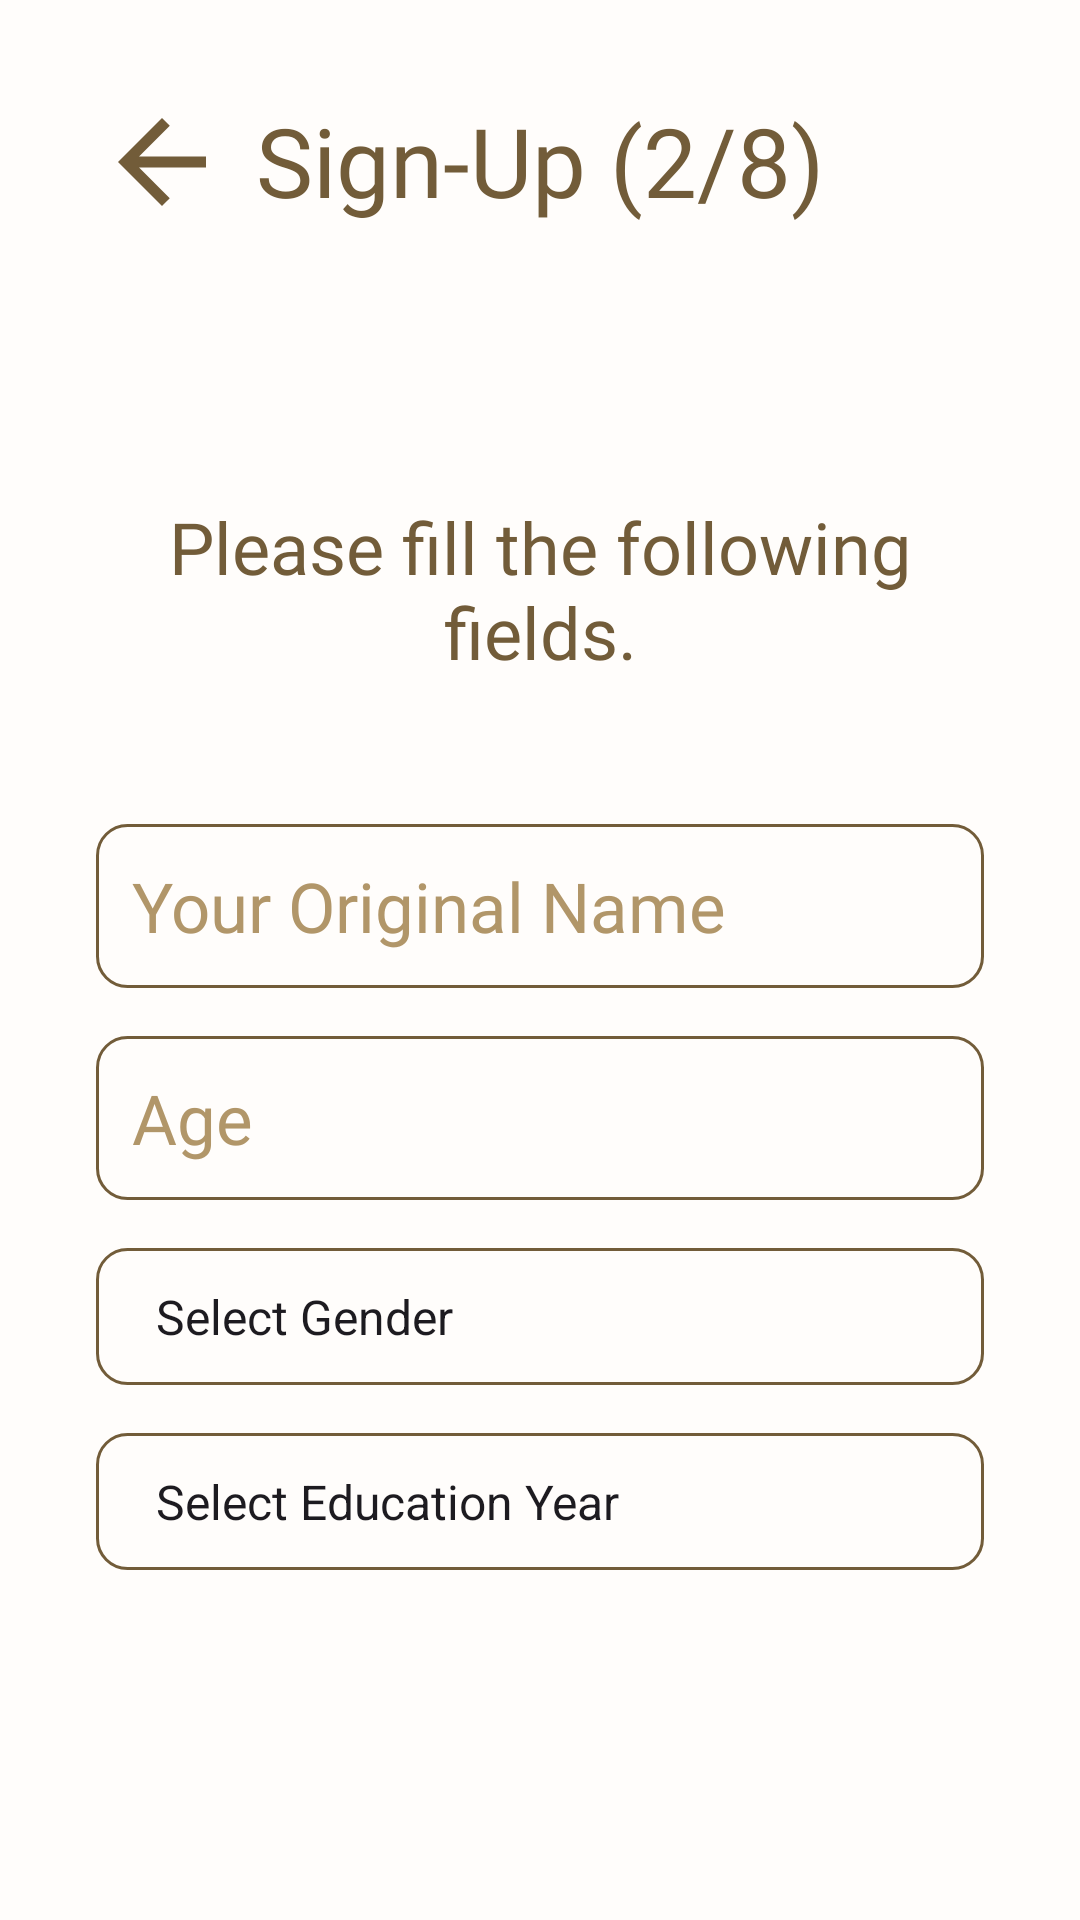

Icon bounding boxes for this 1080×1920 phone screenshot, format rect(x1, y1, x2, y2):
first questionnaire arrow back: rect(118, 118, 206, 206)
